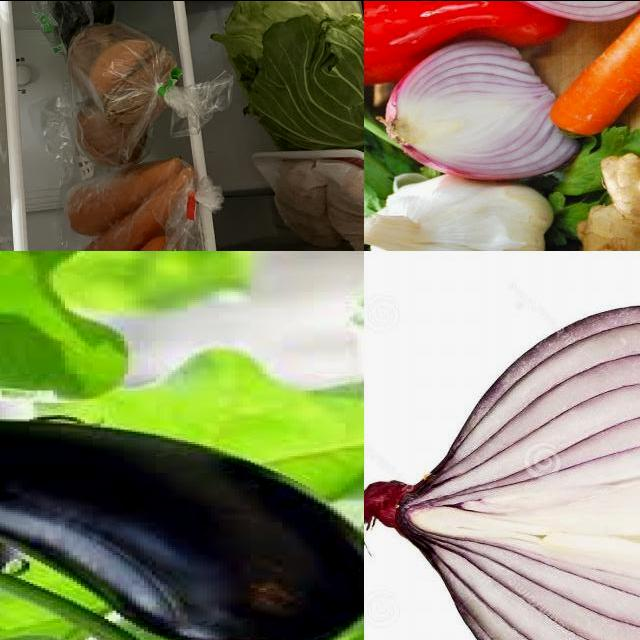bell_pepper: (365, 1, 584, 89)
cabbage: (213, 1, 365, 152)
carrot: (546, 1, 640, 148), (79, 164, 199, 251), (68, 156, 182, 236), (122, 235, 188, 251)
eggplant: (1, 420, 365, 640), (54, 1, 118, 44)
garlic: (367, 182, 559, 251)
onion: (365, 302, 640, 640), (386, 41, 587, 181), (89, 38, 182, 127), (69, 22, 146, 95), (76, 98, 153, 169)
